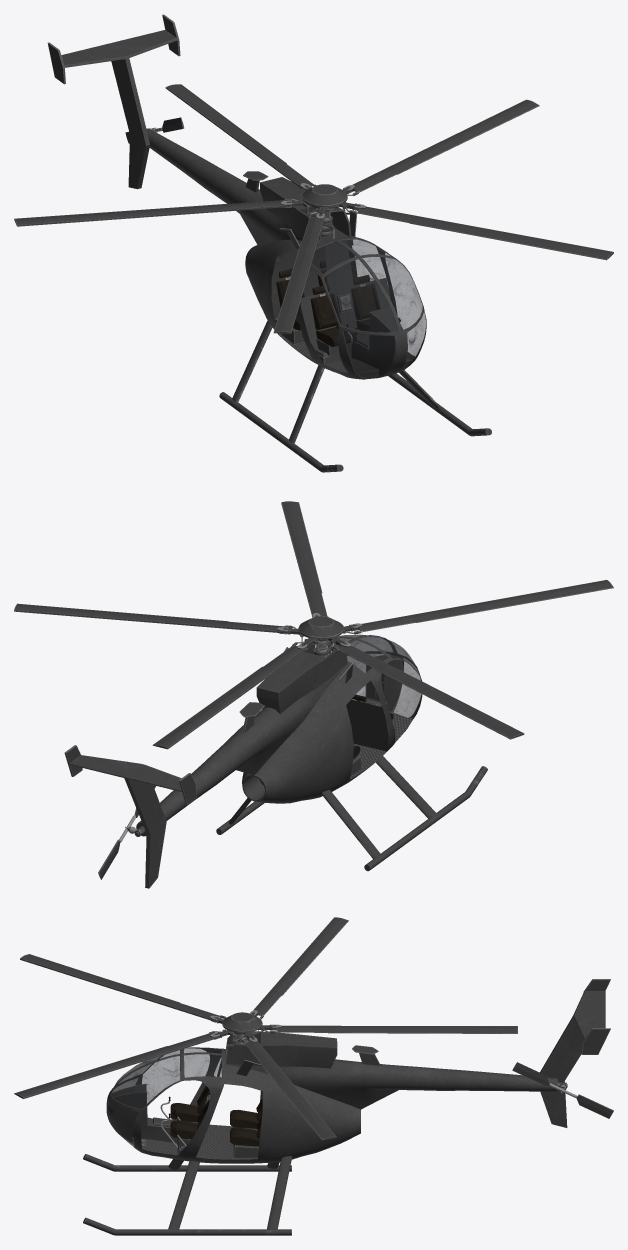
The model's file is little_bird_mh-6_low_poly.glb.
3 renders of one model, top to bottom at view 1: azimuth 30°, elevation 25°; view 2: azimuth 150°, elevation 25°; view 3: azimuth 270°, elevation 25°, orthographic. The views are drawn at different scales.
Visible parts, largest first — view 1: Circle.003, Circle.002, Circle.001, Circle, Plane.005, Cylinder.017, Cylinder.011, Cylinder.006, Cylinder.001, Cylinder.005, Cylinder.007, Cylinder.003 (+2 smaller); view 2: Circle, Circle.001, Plane.005, Circle.002, Cylinder.017, Cylinder.005, Cylinder.006, Cylinder.001, Cylinder.007, Cylinder.011, Circle.003, Cylinder.003; view 3: Circle.001, Circle, Cylinder.017, Circle.003, Circle.002, Plane.005, Cylinder.007, Cylinder.011, Cylinder.005, Cylinder.001, Cylinder.006, Plane.009 (+6 smaller).
Boxes of the visible parts, box(x1,y1,x2,y2) form: Circle.003: box(312, 239, 426, 378); Circle.002: box(271, 240, 416, 378); Circle.001: box(146, 128, 353, 254); Circle: box(245, 236, 426, 379); Plane.005: box(61, 30, 177, 189); Cylinder.017: box(219, 320, 491, 472); Cylinder.011: box(331, 202, 613, 260); Cylinder.006: box(14, 198, 317, 226); Cylinder.001: box(342, 99, 539, 195); Cylinder.005: box(273, 207, 331, 333); Cylinder.007: box(165, 84, 317, 209); Cylinder.003: box(302, 184, 347, 207); Circle: box(242, 635, 422, 803); Circle.001: box(136, 638, 347, 836); Plane.005: box(69, 755, 181, 888); Circle.002: box(346, 655, 413, 779); Cylinder.017: box(216, 756, 487, 871); Cylinder.005: box(329, 580, 613, 641); Cylinder.006: box(324, 637, 524, 739); Cylinder.001: box(14, 603, 315, 644); Cylinder.007: box(152, 638, 324, 749); Cylinder.011: box(281, 501, 328, 617); Circle.003: box(315, 634, 421, 717); Cylinder.003: box(298, 616, 343, 639); Circle.001: box(226, 1031, 557, 1109); Circle: box(106, 1047, 360, 1163); Cylinder.017: box(83, 1154, 292, 1235); Circle.003: box(107, 1047, 221, 1147); Circle.002: box(107, 1060, 257, 1159); Plane.005: box(540, 991, 605, 1127); Cylinder.007: box(253, 1024, 517, 1033); Cylinder.011: box(14, 1029, 242, 1098); Cylinder.005: box(20, 954, 235, 1036); Cylinder.001: box(241, 1032, 336, 1139); Cylinder.006: box(249, 917, 348, 1019); Plane.009: box(512, 1062, 613, 1118).
Size of the model in its own units: 2.39 by 0.9826 by 2.74.
1 material, 1 textured.
